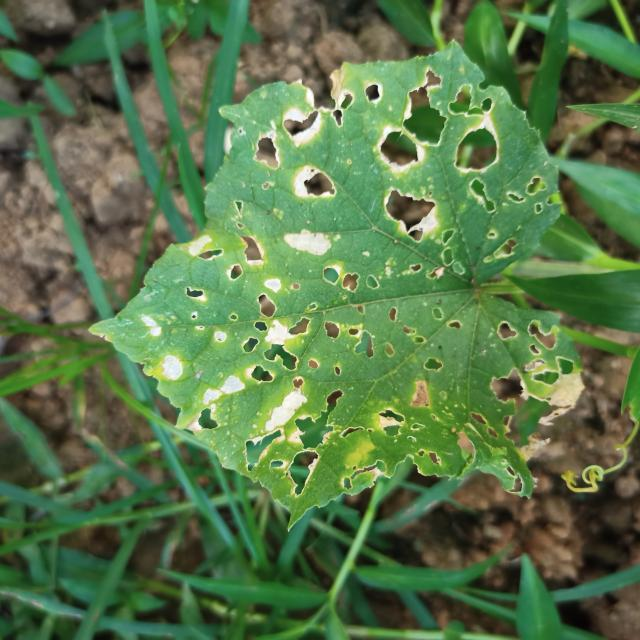disease_cucumber: (127, 62, 582, 484)
